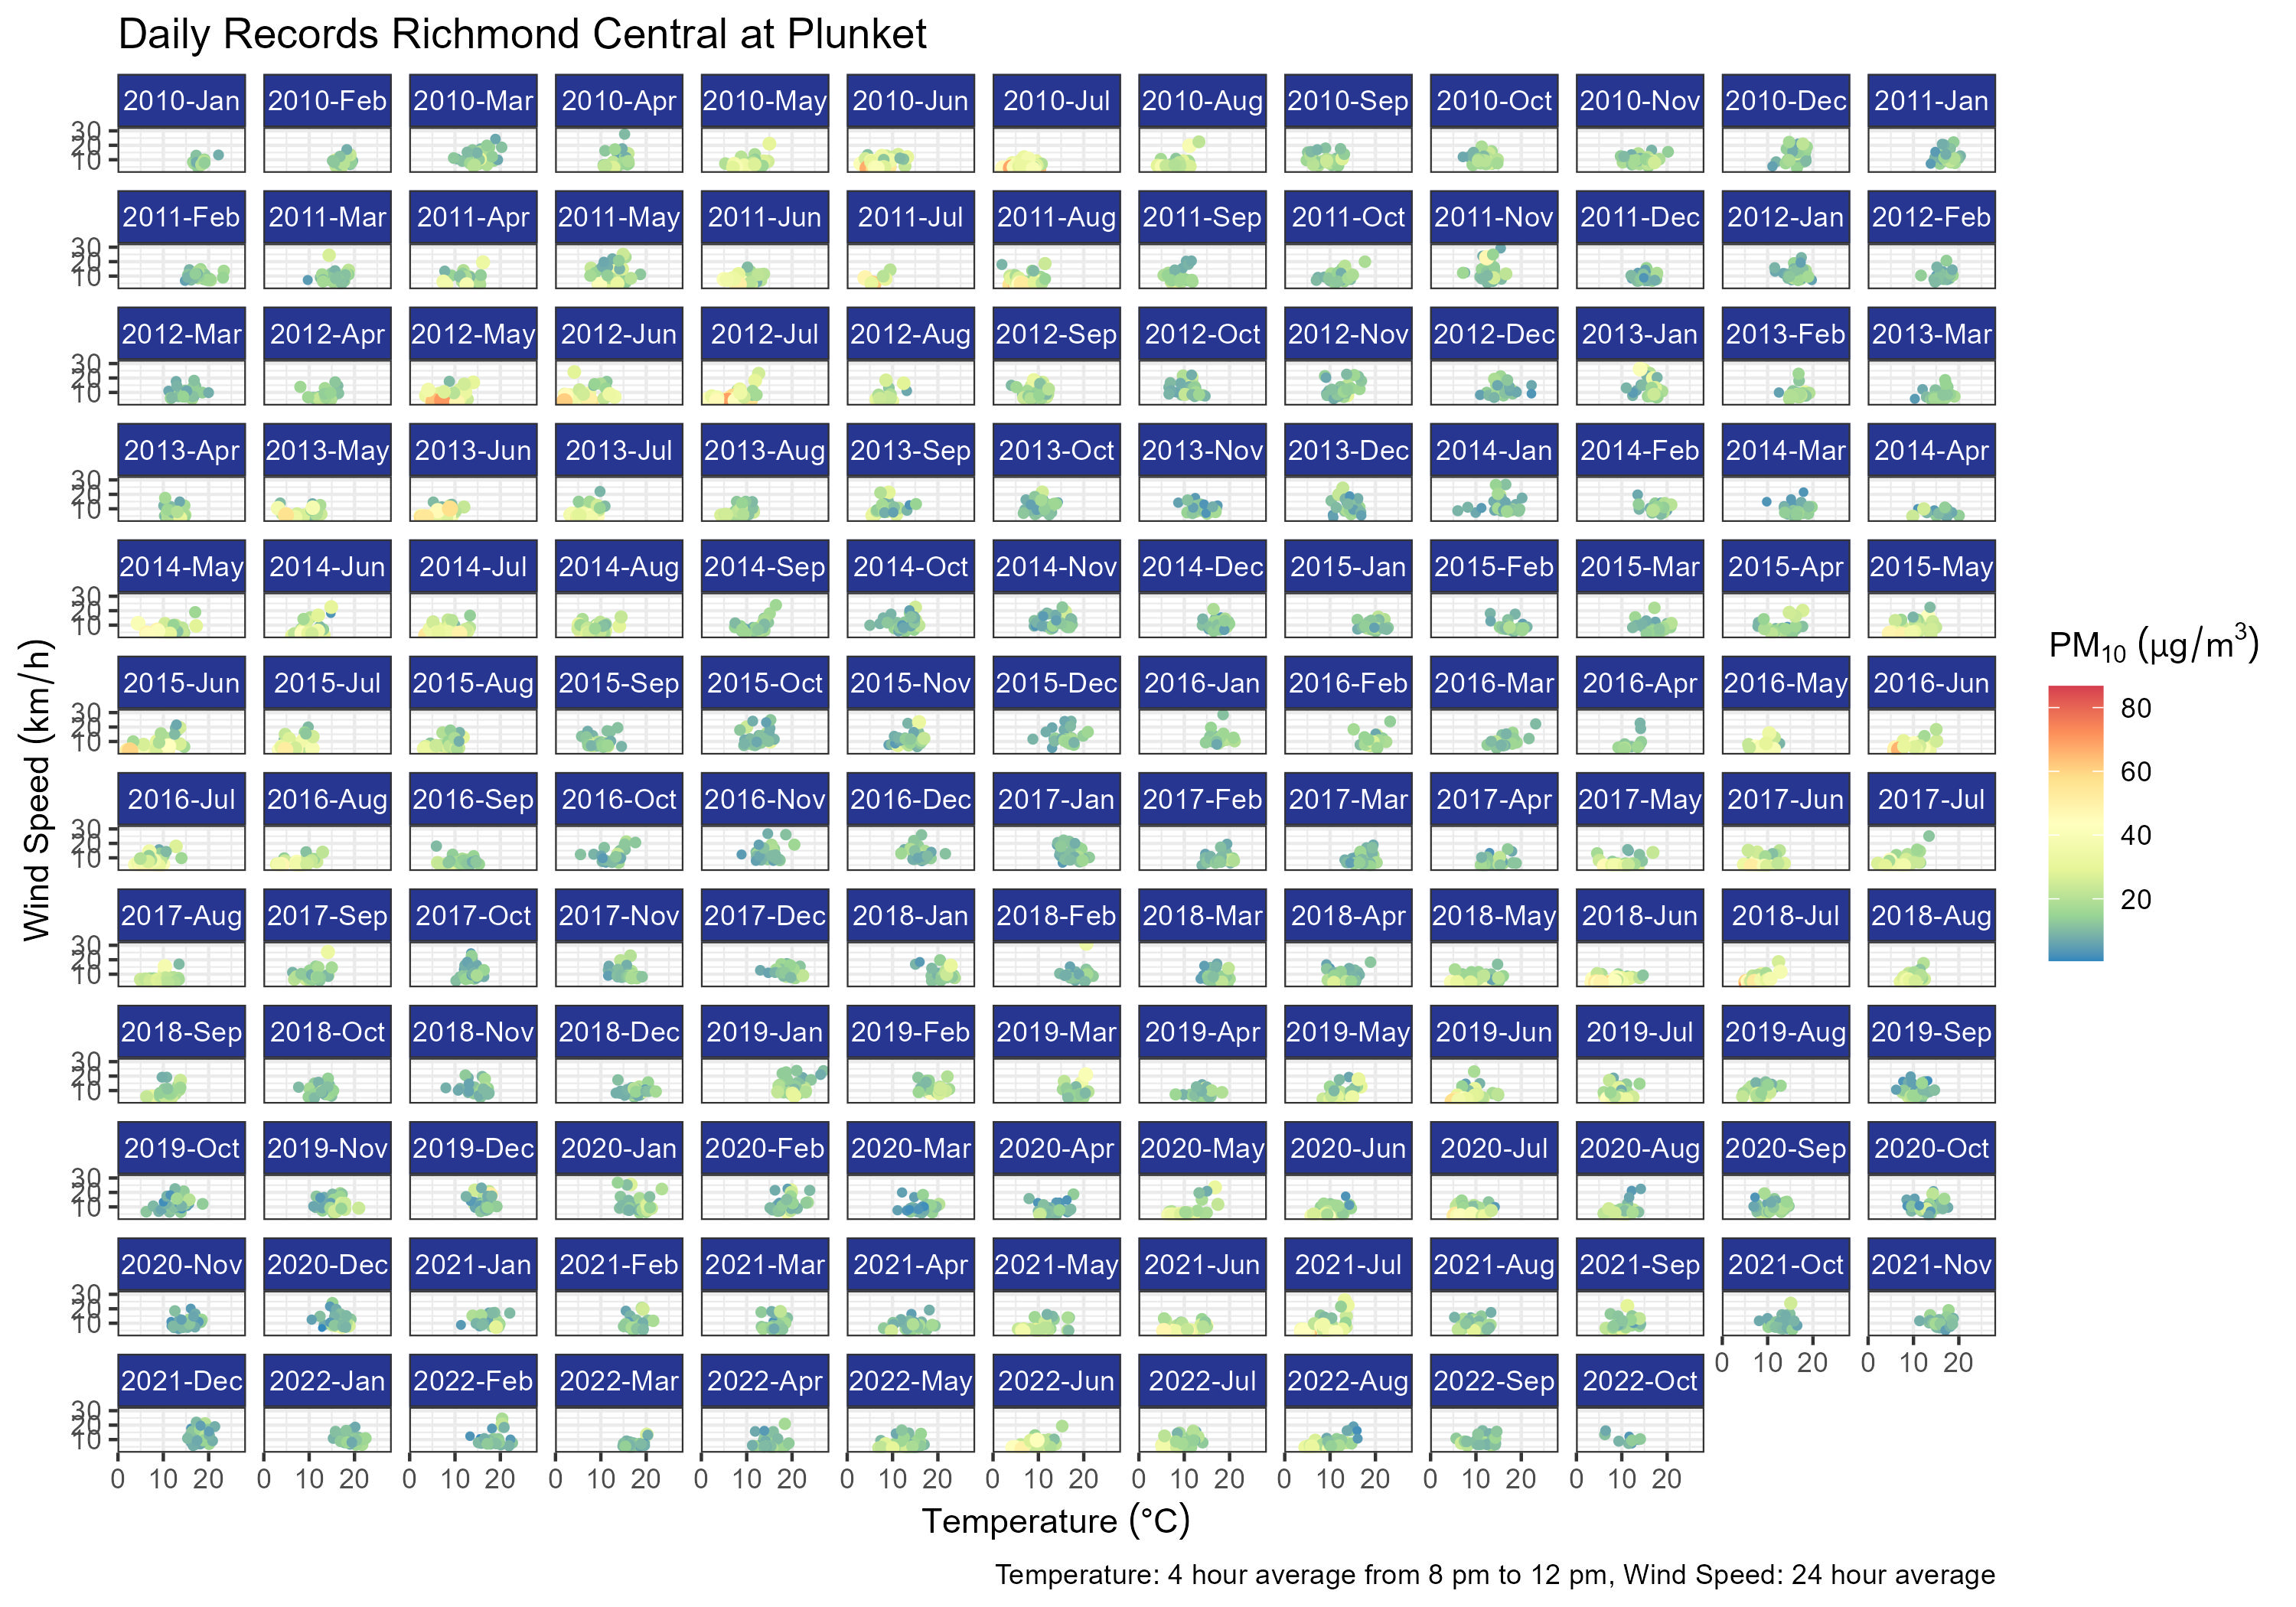

The dashboard page shown, as its layout file describes it:
{"tool":"powerbi","page":{"name":"Page 1","canvas":[1280,720],"ordinal":0},"visuals":[{"type":"scriptVisual","fields":{"Values":["example_wind_data.dir","example_wind_data.spd"]},"box":[452,0,639.6,480.6],"z":0},{"type":"slicer","fields":{"Values":["example_wind_data.nzst"]},"box":[0,0,452.3,480.5],"z":1}]}

Visuals, with their boxes on the page's 1280x720 design canvas (x1, y1, x2, y2). These are canvas units, not pixel positions in the 2296x1607 screenshot, which may show the page scaled, cropped or inside an application window:
scriptVisual - example_wind_data.dir x example_wind_data.spd: {"x1": 452, "y1": 0, "x2": 1092, "y2": 481}
slicer - example_wind_data.nzst: {"x1": 0, "y1": 0, "x2": 452, "y2": 480}
